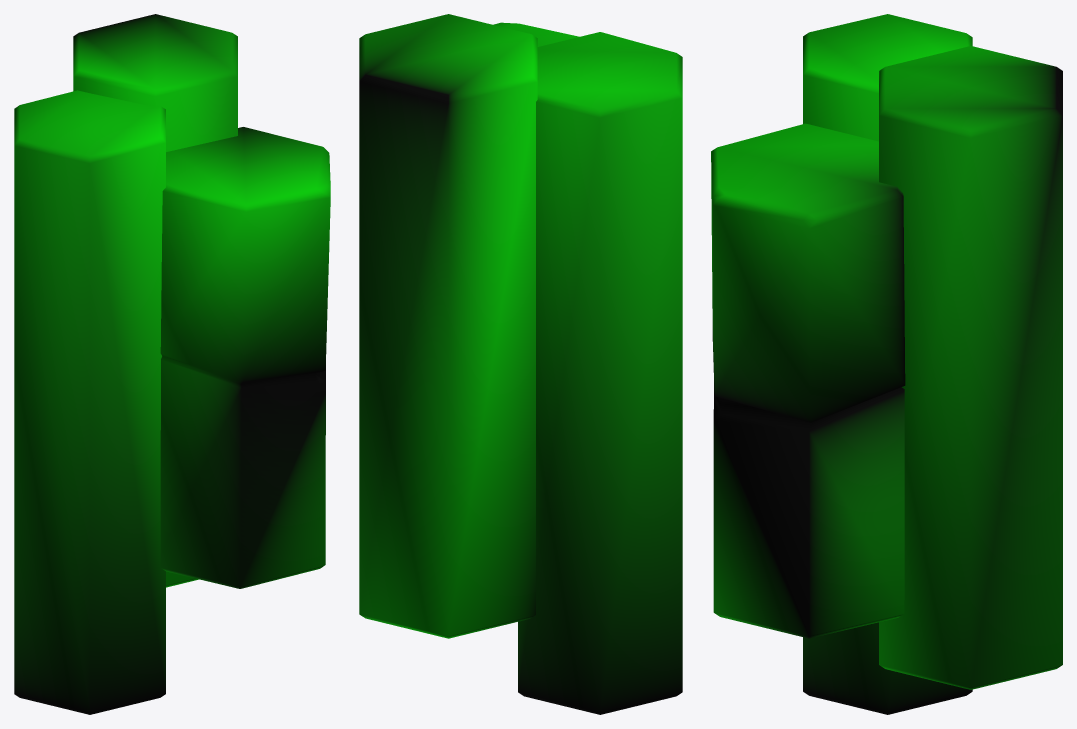
Rendered from SM_RockHexic_Rocks02.fbx.
3 renders of one model, left to right at view 1: azimuth 30°, elevation 25°; view 2: azimuth 150°, elevation 25°; view 3: azimuth 270°, elevation 25°, orthographic. The views are drawn at different scales.
Parts seen in each view (by area): view 1: SM_RockHexic_Rocks02; view 2: SM_RockHexic_Rocks02; view 3: SM_RockHexic_Rocks02.
Boxes of the visible parts, box(x1,y1,x2,y2) form: SM_RockHexic_Rocks02: box(14, 14, 330, 714); SM_RockHexic_Rocks02: box(359, 14, 682, 714); SM_RockHexic_Rocks02: box(711, 14, 1062, 714).
Size of the model in its own units: 695 by 677 by 1369.
